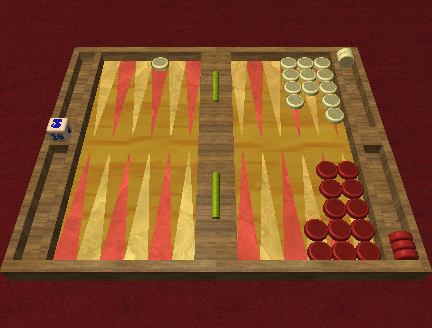checker: (303, 217, 329, 240), (306, 240, 333, 261), (350, 218, 375, 239), (327, 218, 352, 239), (322, 197, 347, 218), (332, 240, 356, 261), (355, 240, 380, 260), (318, 178, 342, 198), (315, 159, 339, 179), (336, 159, 360, 179), (341, 178, 365, 198), (345, 198, 369, 218), (388, 229, 414, 243), (325, 105, 343, 124), (336, 50, 355, 67), (282, 80, 302, 95), (391, 239, 416, 251), (392, 248, 419, 259), (302, 79, 320, 95), (286, 94, 305, 109), (319, 79, 338, 93), (315, 68, 334, 82), (281, 67, 301, 80), (151, 57, 169, 71), (281, 56, 297, 71), (322, 93, 340, 106), (300, 67, 317, 80), (314, 55, 331, 68), (297, 56, 314, 68), (337, 46, 353, 55)
